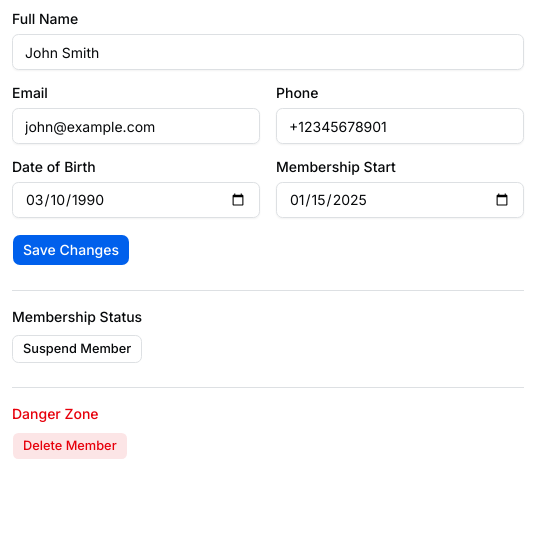
Test: EditMemberForm › editMemberForm_invalidPhone_showsOnlyPhoneErrorAndDoesNotCallUpdate
Replace the text in the field labelled "Phone" with "12 345" at coordinates (400, 126), box left=276, top=108, right=524, bottom=144
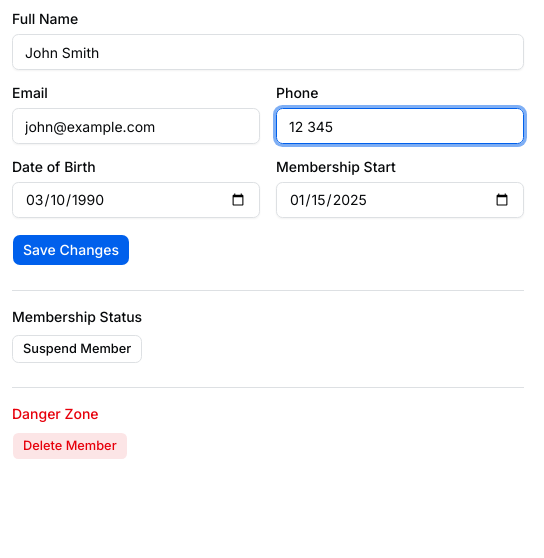
Click the button "Save Changes".
click(71, 250)  # box left=12, top=234, right=130, bottom=266
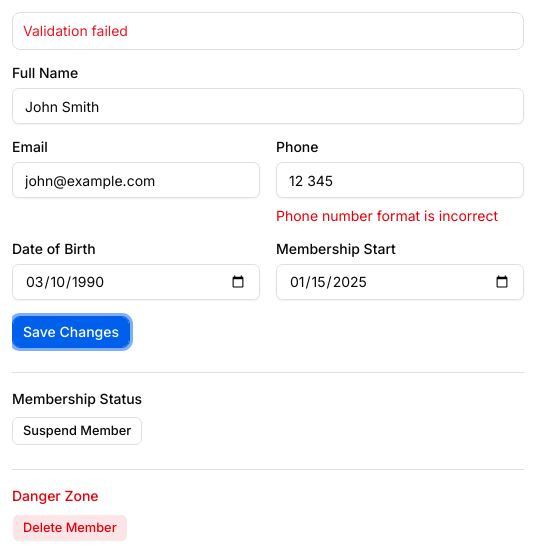
Check: the text "Phone number format is incorrect" is shown, box left=276, top=206, right=524, bottom=226
